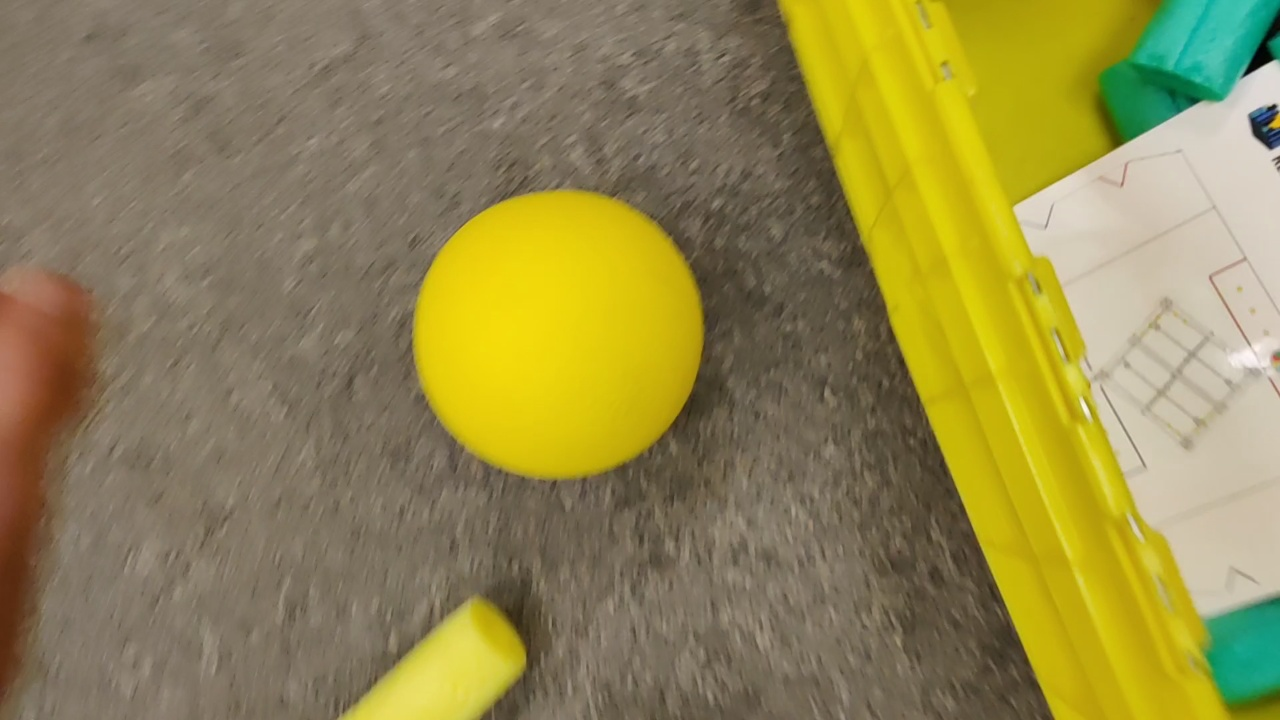Ball: (410, 188, 706, 481)
